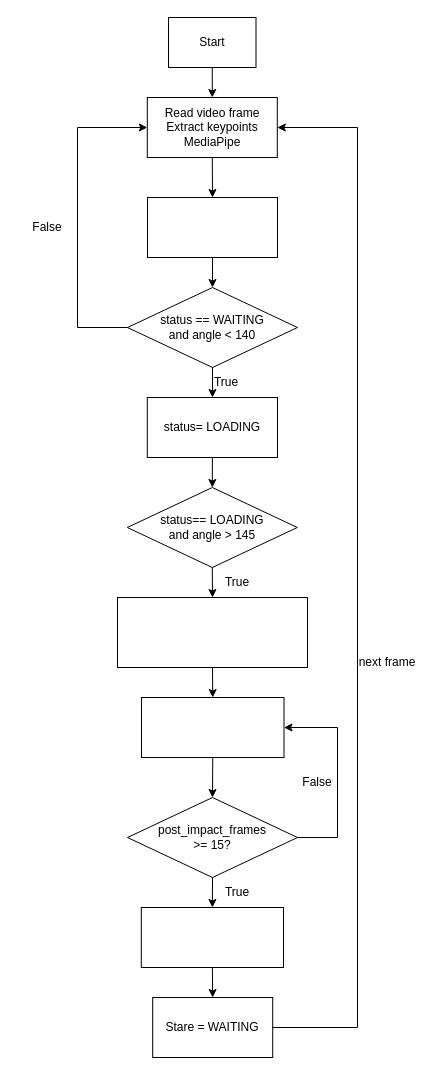
The diagram is 434 pixels wide and 1075 high, and some of its shapes have lost their labels. The centre of each missing label's shape, as x and y in pixels:
1D CNN evaluation (sliding window) ai_prediction = verdict repetition: [212,727]
Joint angle calculation knee, hip, elbow, shoulder: [212,227]
Record reps + verdict Status = COOLDOWN (45 frames): [212,937]
Status = FOLLOW_THROUGH_TRACKING Initialize post_impact_frames = 0: [212,632]
